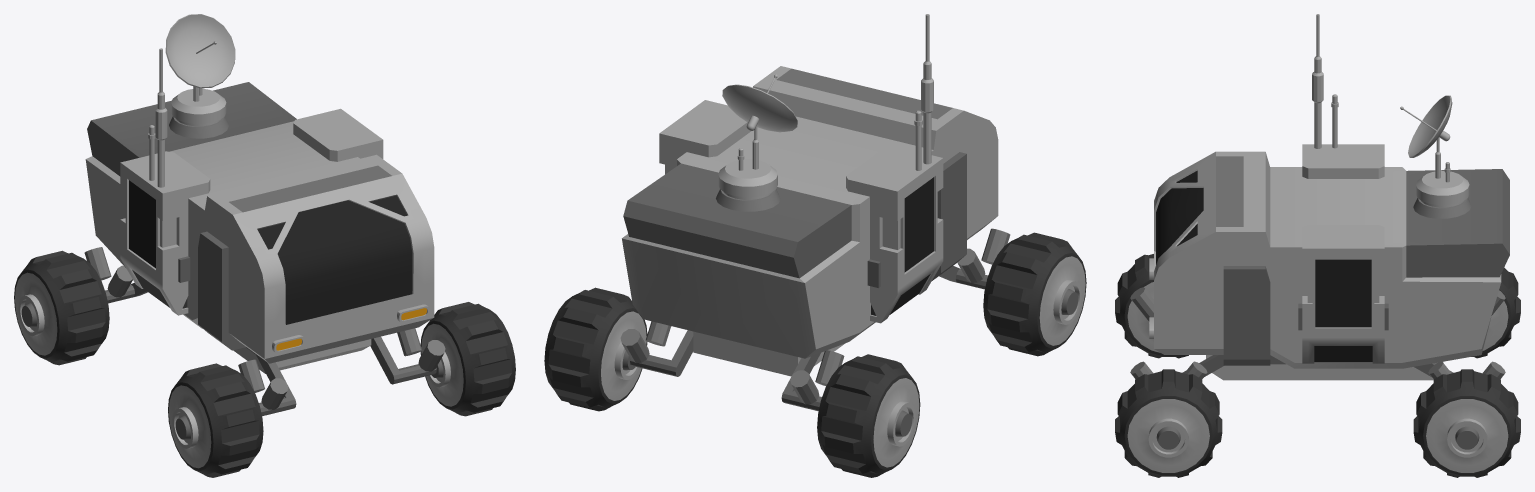
File: rover-2.glb
3 views of the same model, side by side, from view 1: azimuth 30°, elevation 25°; view 2: azimuth 150°, elevation 25°; view 3: azimuth 270°, elevation 25° (orthographic). The views are drawn at different scales.
Parts seen in each view (by area): view 1: Rover_1, Wheel_4.001, Wheel_4.002, Wheel_5; view 2: Rover_1, Wheel_4.001, Wheel_4.002, Wheel_1.002; view 3: Rover_1, Wheel_5, Wheel_1.002, Wheel_4.001, Wheel_4.002.
Boxes of the visible parts, x1,y1,x2,y2 form: Rover_1: (84,14,445,416); Wheel_4.001: (168,363,263,477); Wheel_4.002: (14,250,109,365); Wheel_5: (420,302,515,416); Rover_1: (620,14,1010,411); Wheel_4.001: (983,232,1086,356); Wheel_4.002: (817,354,920,477); Wheel_1.002: (544,287,647,411); Rover_1: (1130,14,1509,380); Wheel_5: (1115,369,1222,477); Wheel_1.002: (1413,369,1520,477); Wheel_4.001: (1115,254,1188,358); Wheel_4.002: (1471,267,1520,358).
Bounding box in the file's own units: 4.58 × 4.88 × 5.16.
1 material, 1 textured.
